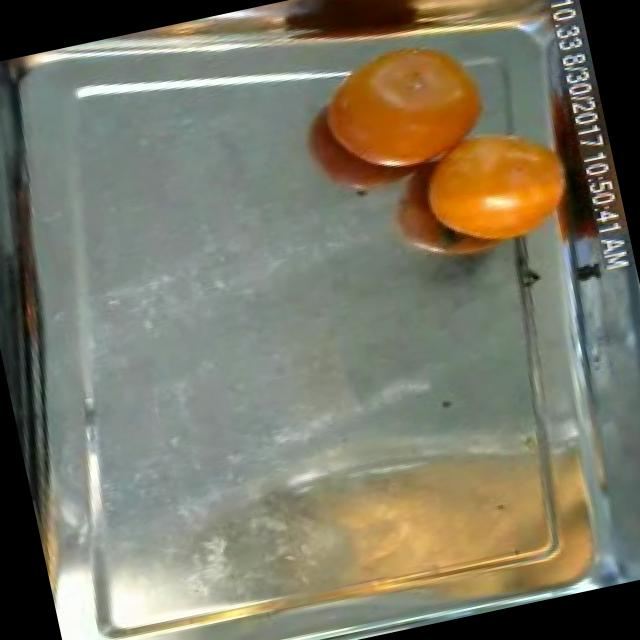Fruit: (286, 18, 520, 212), (382, 97, 602, 276)
